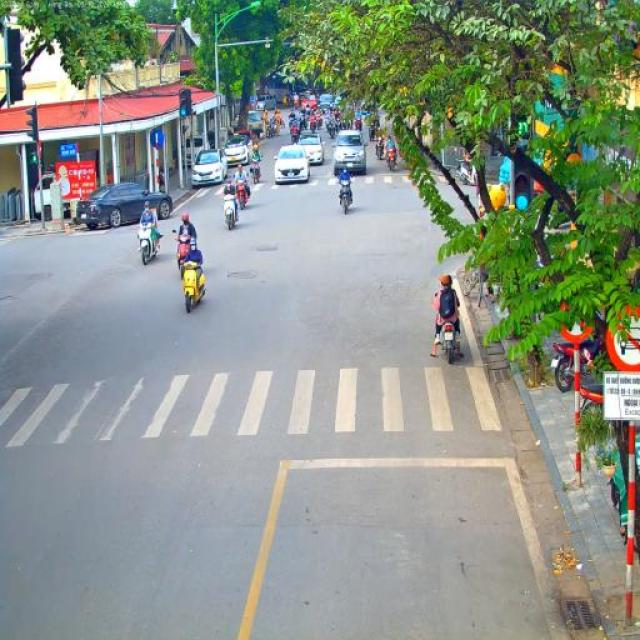car: (76, 181, 173, 229), (331, 128, 368, 177), (273, 144, 311, 186), (192, 148, 226, 187), (296, 133, 326, 166), (223, 137, 251, 165), (234, 129, 252, 150), (256, 95, 276, 111), (317, 94, 333, 111), (306, 94, 318, 108)
motorcycle: (551, 334, 603, 394), (575, 382, 604, 429), (182, 260, 207, 314), (172, 229, 197, 281), (437, 318, 461, 364), (137, 222, 161, 266), (222, 193, 239, 231), (454, 160, 478, 184), (233, 179, 251, 210), (337, 181, 353, 215), (384, 146, 398, 172), (250, 160, 262, 184), (374, 138, 385, 162), (289, 125, 300, 145), (332, 117, 342, 138), (263, 122, 276, 138), (314, 112, 324, 132), (326, 118, 334, 138), (300, 110, 308, 130), (353, 117, 362, 132), (310, 118, 318, 134), (294, 112, 302, 128), (370, 126, 379, 140), (287, 116, 294, 132), (280, 118, 286, 128)
truck: (30, 162, 96, 222), (184, 136, 208, 168), (236, 111, 263, 138)
